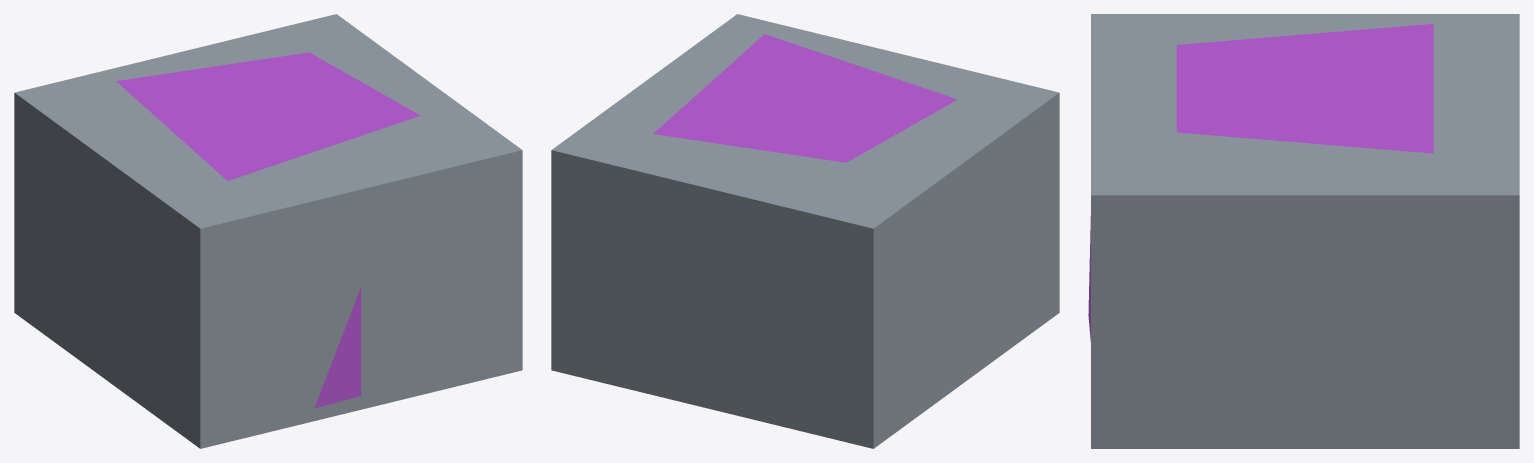
File: CH_PowerPlant_LOD1.glb
3 renders of one model, left to right at view 1: azimuth 30°, elevation 25°; view 2: azimuth 150°, elevation 25°; view 3: azimuth 270°, elevation 25°, orthographic. The views are drawn at different scales.
Visible parts, largest first — view 1: EntranceGate; view 2: EntranceGate; view 3: EntranceGate.
Part boxes in pixels (box(x1,y1,x2,y2)): EntranceGate: box(14, 14, 522, 448); EntranceGate: box(551, 14, 1059, 448); EntranceGate: box(1088, 14, 1519, 448).
Bounding box in the file's own units: 600 × 433 × 603.
